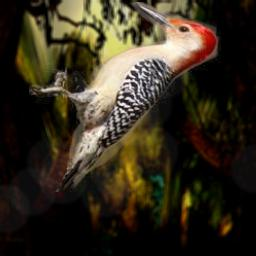Woodpecker: (29, 2, 221, 192)
